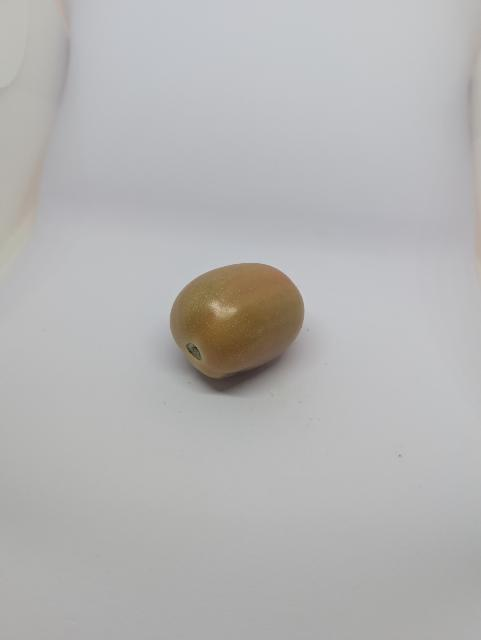turning: (158, 253, 319, 404)
